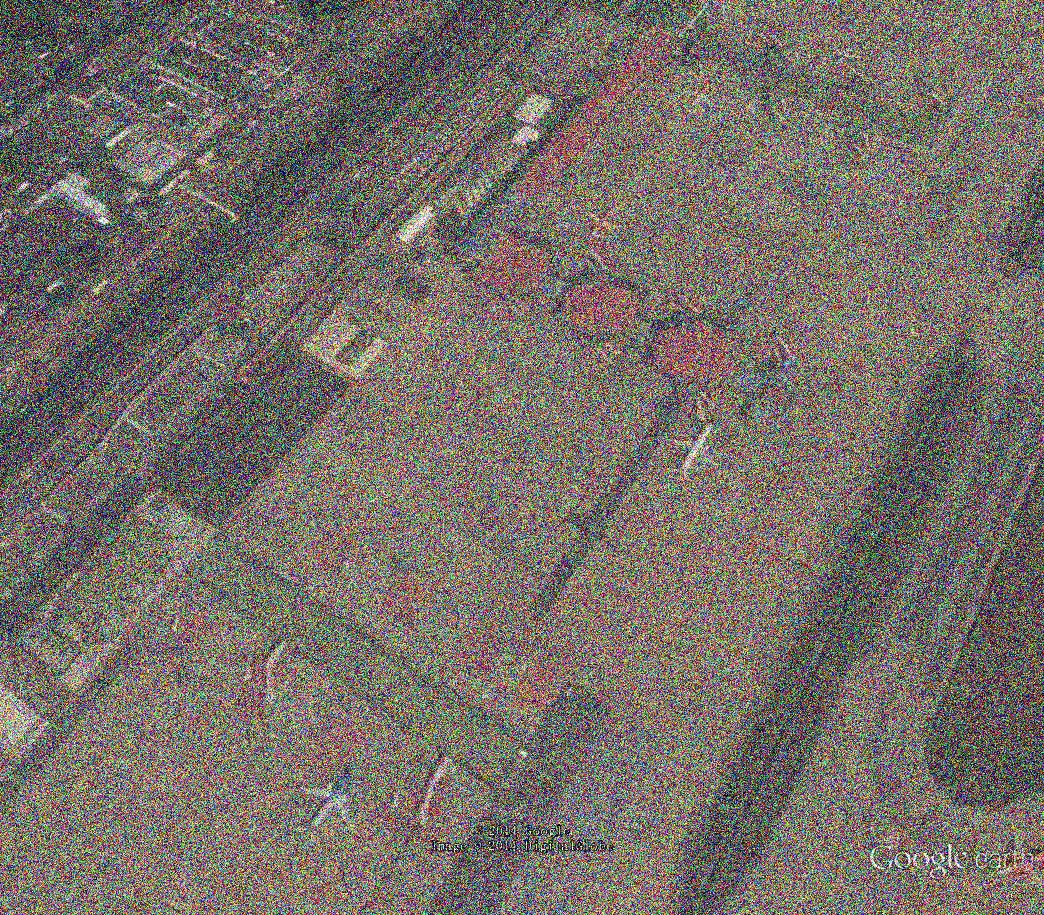aircraft: (292, 762, 361, 852), (664, 421, 725, 486), (580, 199, 628, 243), (675, 79, 721, 118), (828, 38, 865, 67)
